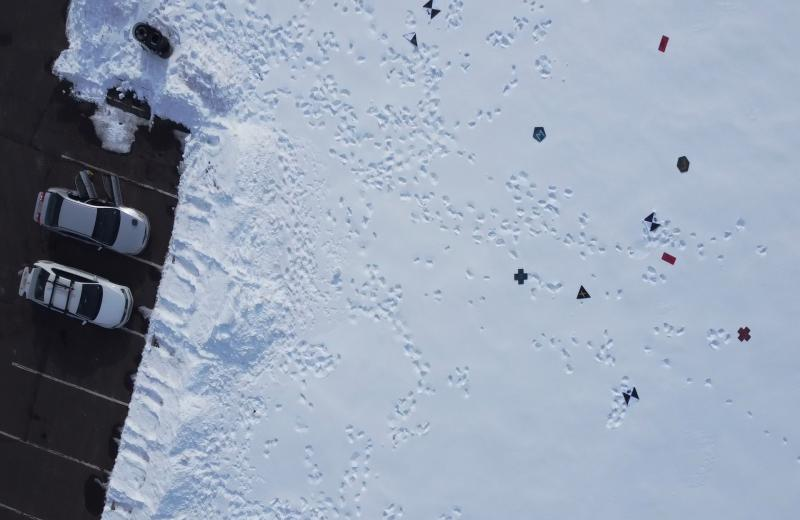Cross: (512, 268, 529, 286), (736, 324, 752, 342)
Hexagon: (675, 155, 691, 174)
Pentagon: (531, 123, 548, 144)
Rectangle: (655, 34, 671, 54), (660, 250, 676, 267)
Triangle: (575, 284, 591, 304)
